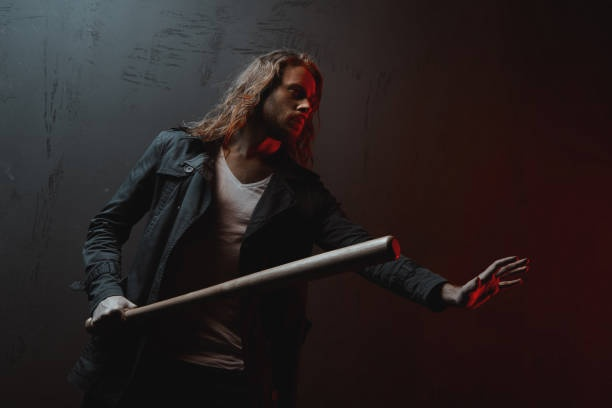bita: (88, 236, 401, 328)
